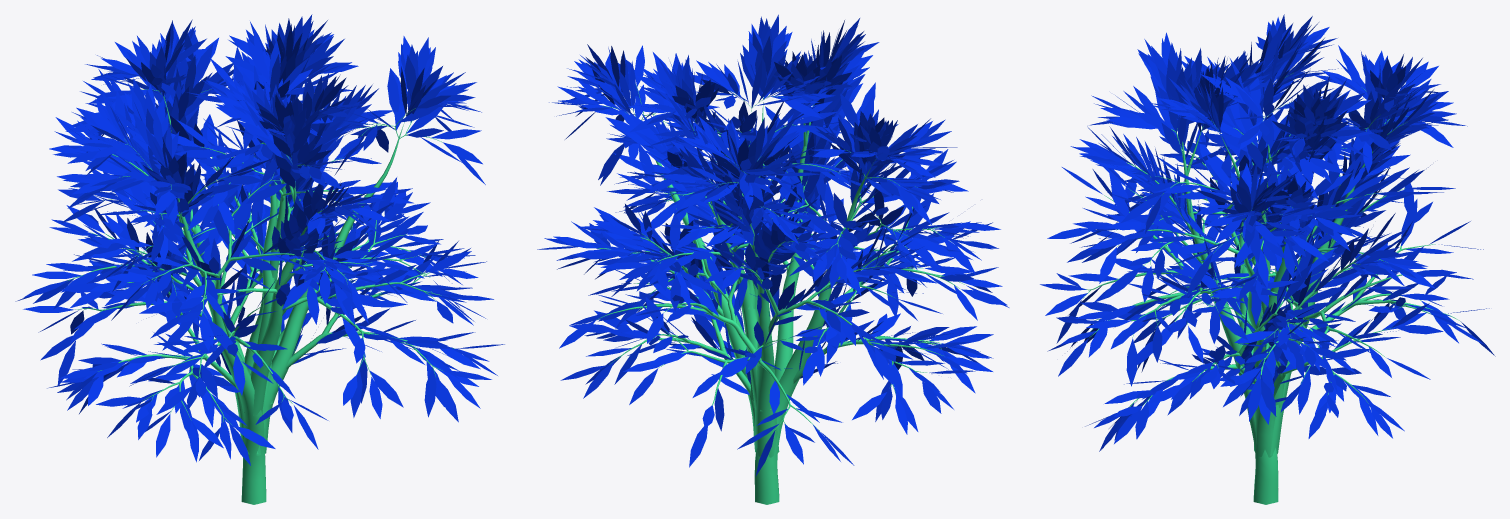
The model's file is BlueNewTree.fbx.
The picture shows the model from 3 angles, left to right: view 1: azimuth 30°, elevation 25°; view 2: azimuth 150°, elevation 25°; view 3: azimuth 270°, elevation 25°; orthographic projection.
Visible parts, largest first — view 1: leaves; view 2: leaves; view 3: leaves.
Part boxes in pixels (x1,y1,x2,y2): leaves: [15, 14, 504, 504]; leaves: [537, 14, 1009, 504]; leaves: [1040, 14, 1495, 504].
Size of the model in its own units: 567 by 576 by 536.
